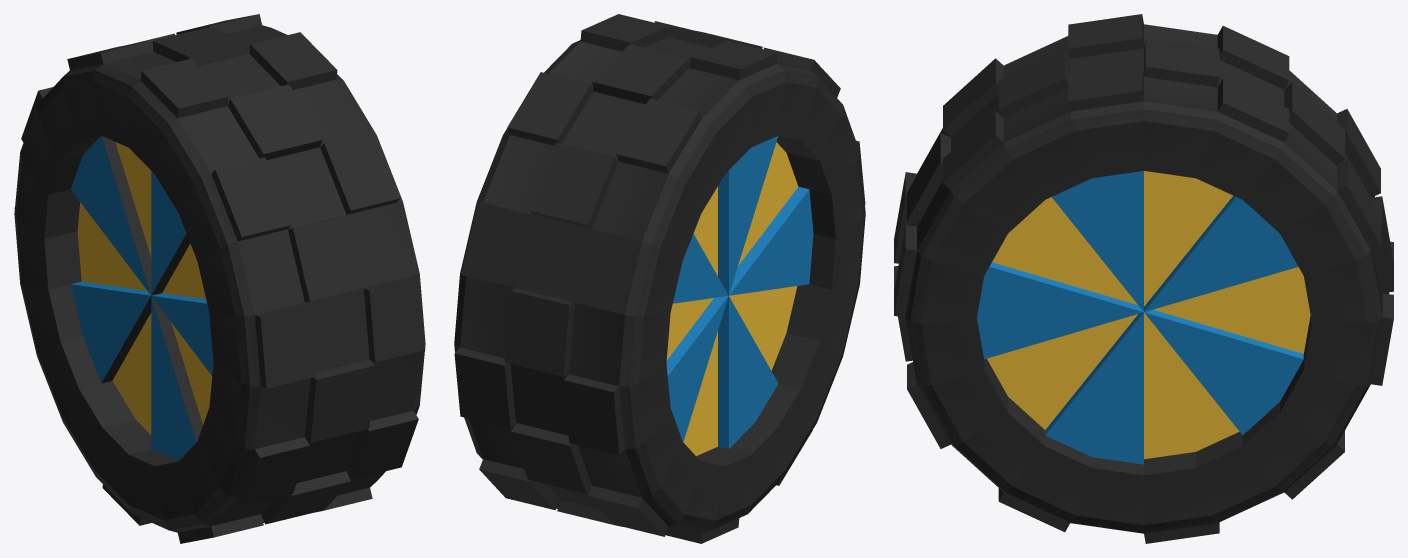
Rendered from Wheel.fbx.
3 renders of one model, left to right at view 1: azimuth 30°, elevation 25°; view 2: azimuth 150°, elevation 25°; view 3: azimuth 270°, elevation 25°, orthographic.
Parts seen in each view (by area): view 1: tockovi \.001; view 2: tockovi \.001; view 3: tockovi \.001.
Boxes of the visible parts, left/top/right/bottom form: tockovi \.001: left=14, top=14, right=425, bottom=543; tockovi \.001: left=454, top=14, right=865, bottom=543; tockovi \.001: left=894, top=14, right=1393, bottom=543.
Bounding box in the file's own units: 87.61 × 210 × 210.
